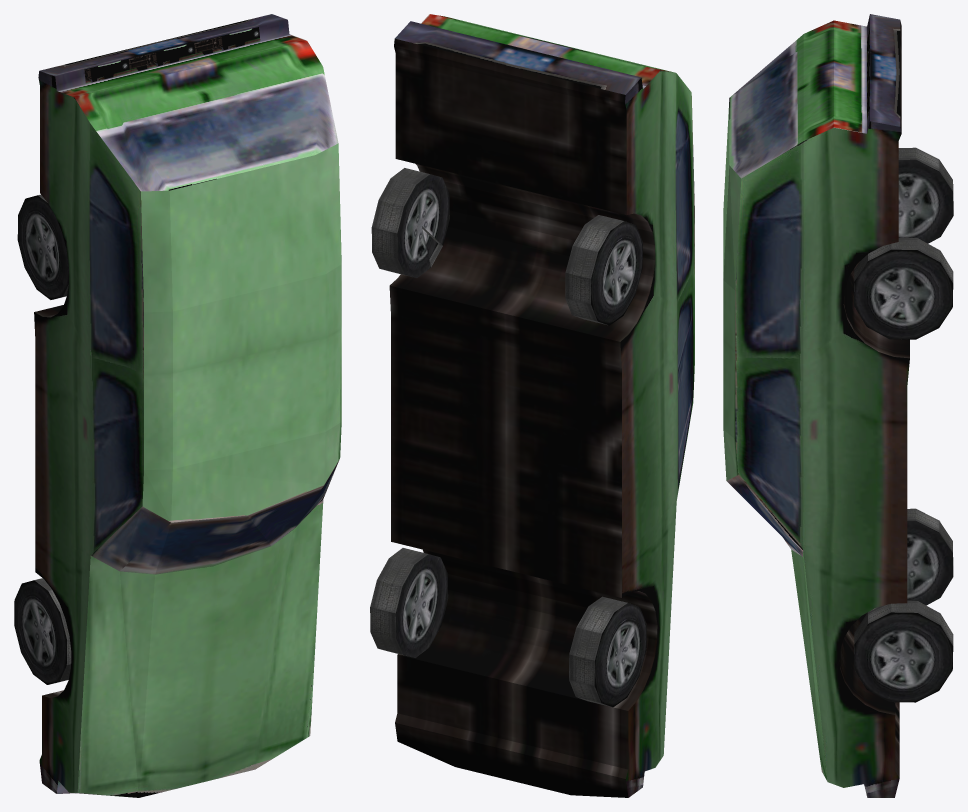
File: carpack_wagon_wtf.obj
The picture shows the model from 3 angles, left to right: view 1: azimuth 30°, elevation 25°; view 2: azimuth 150°, elevation 25°; view 3: azimuth 270°, elevation 25°; orthographic projection. The views are drawn at different scales.
Visible parts, largest first — view 1: group2; view 2: group2; view 3: group2.
Part boxes in pixels (left/top/right/bottom): group2: left=14, top=14, right=341, bottom=797; group2: left=370, top=14, right=694, bottom=797; group2: left=723, top=14, right=953, bottom=797.
Size of the model in its own units: 221 by 660 by 200.
